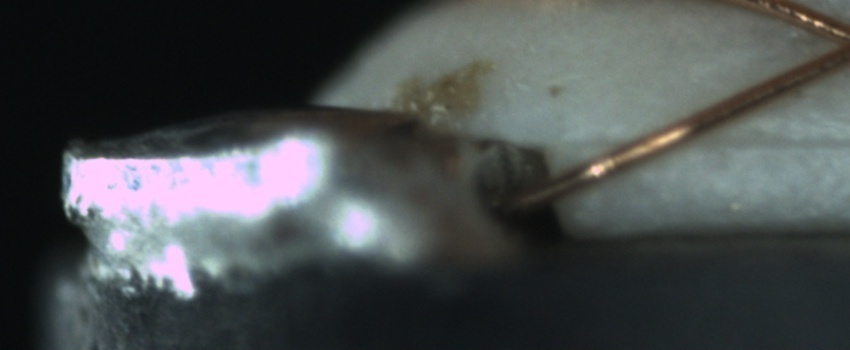CL: (802, 10, 850, 80)
DL: (675, 111, 850, 173)
